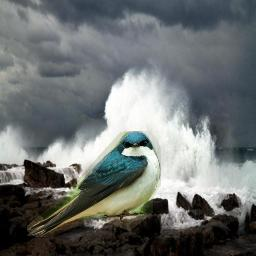Swallow: (27, 131, 161, 237)
